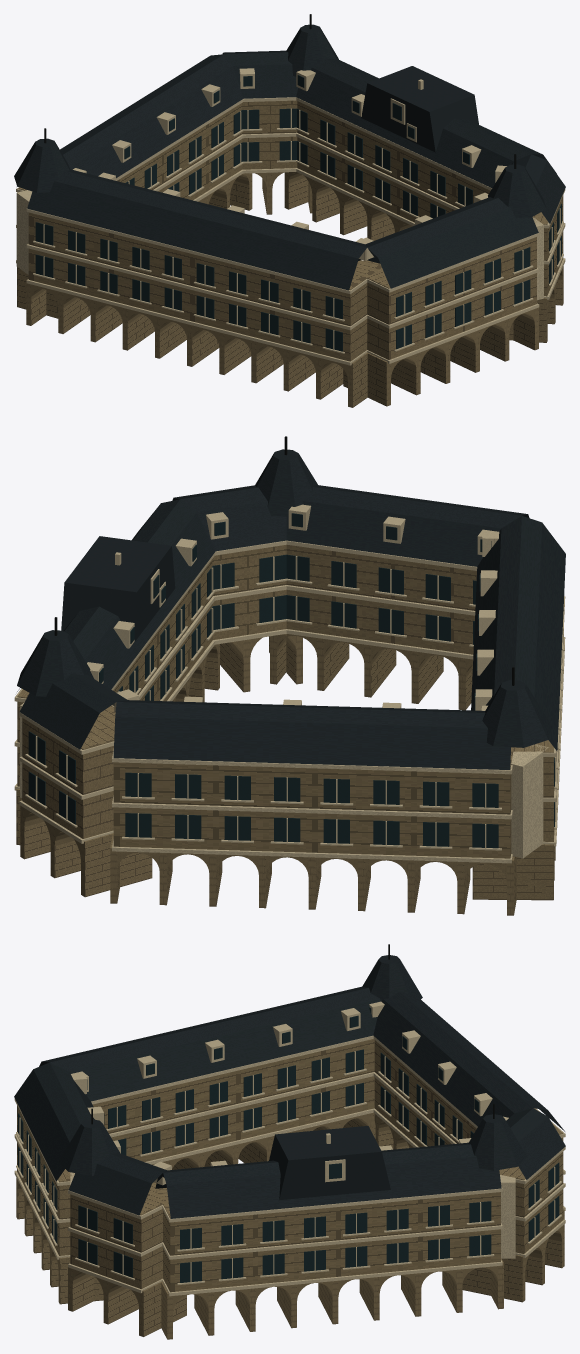
3 renders of one model, top to bottom at view 1: azimuth 30°, elevation 25°; view 2: azimuth 150°, elevation 25°; view 3: azimuth 270°, elevation 25°, orthographic. The views are drawn at different scales.
Visible parts, largest first — view 1: plan-c-0, plan-c-3, plan-c-1, plan-c-2; view 2: plan-c-3, plan-c-0, plan-c-1, plan-c-2; view 3: plan-c-0, plan-c-3, plan-c-1, plan-c-2.
Boxes of the visible parts, x1,y1,x2,y2 form: plan-c-0: [17, 100, 563, 407]; plan-c-3: [14, 24, 565, 290]; plan-c-1: [16, 68, 565, 365]; plan-c-2: [35, 75, 561, 351]; plan-c-3: [17, 449, 565, 769]; plan-c-0: [16, 544, 555, 915]; plan-c-1: [14, 504, 565, 863]; plan-c-2: [28, 513, 554, 848]; plan-c-0: [16, 1039, 564, 1339]; plan-c-3: [14, 955, 565, 1218]; plan-c-1: [14, 1001, 565, 1296]; plan-c-2: [18, 1007, 559, 1282].
Bounding box in the file's own units: 61.77 × 25.15 × 65.8.
Materials: 5 (5 with a texture image).
